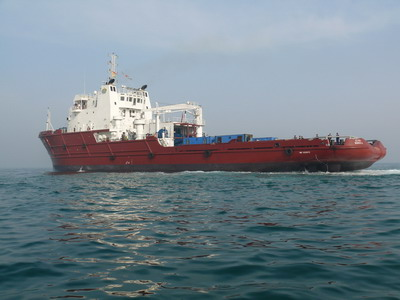Cargoship: (35, 54, 384, 178)
